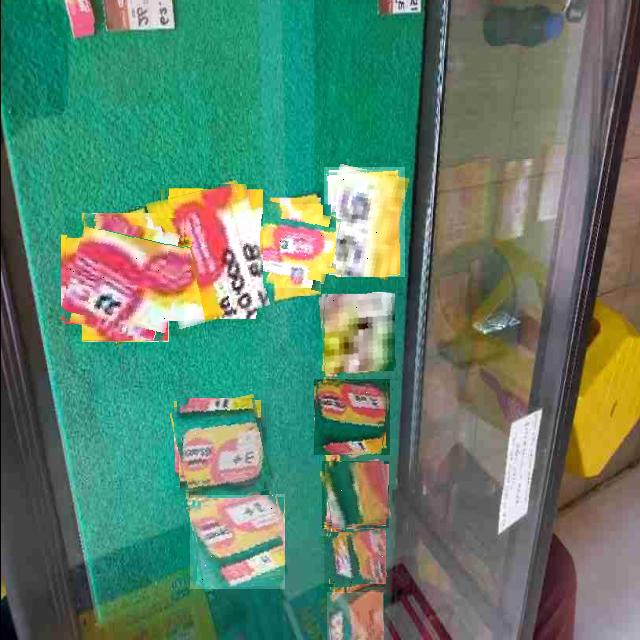im3: (152, 184, 262, 324), (64, 218, 183, 336), (173, 398, 270, 495), (189, 494, 284, 589), (323, 167, 404, 277), (251, 204, 335, 288), (318, 293, 394, 372), (313, 379, 389, 455), (321, 461, 388, 528), (320, 529, 384, 587), (326, 592, 383, 640)
